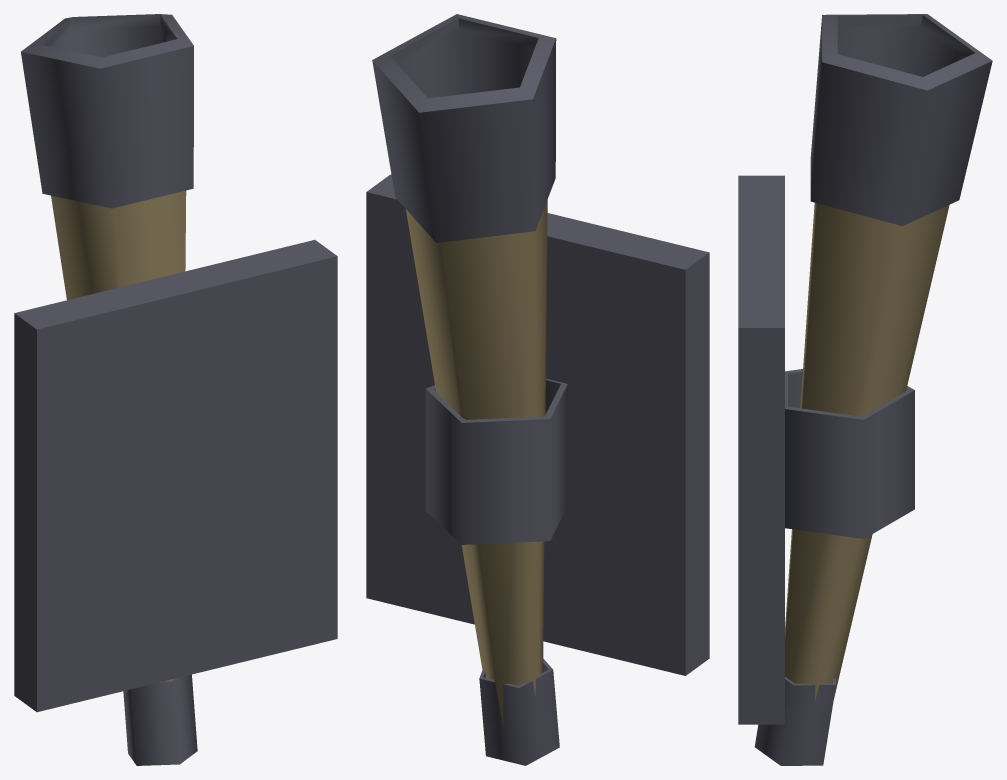
Rendered from Torch.glb.
3 views of the same model, side by side, from view 1: azimuth 30°, elevation 25°; view 2: azimuth 150°, elevation 25°; view 3: azimuth 270°, elevation 25° (orthographic). The views are drawn at different scales.
Visible parts, largest first — view 1: pCylinder50; view 2: pCylinder50; view 3: pCylinder50.
Boxes of the visible parts, <box> form: pCylinder50: <box>14,14,337,765</box>; pCylinder50: <box>366,14,709,765</box>; pCylinder50: <box>738,14,992,765</box>.
Bounding box in the file's own units: 0.9973 × 2.2 × 0.7047.
